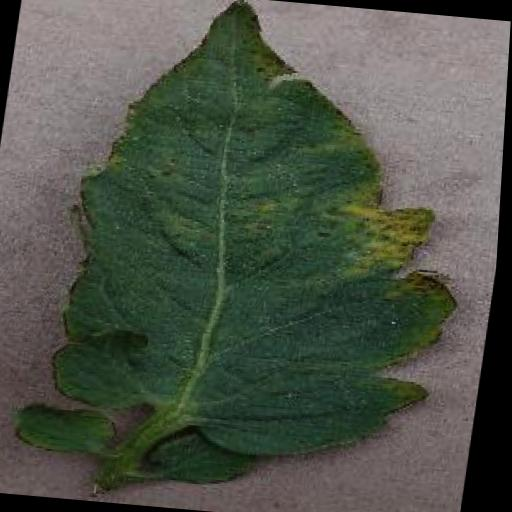Bacterial Spot: (9, 0, 504, 505)
